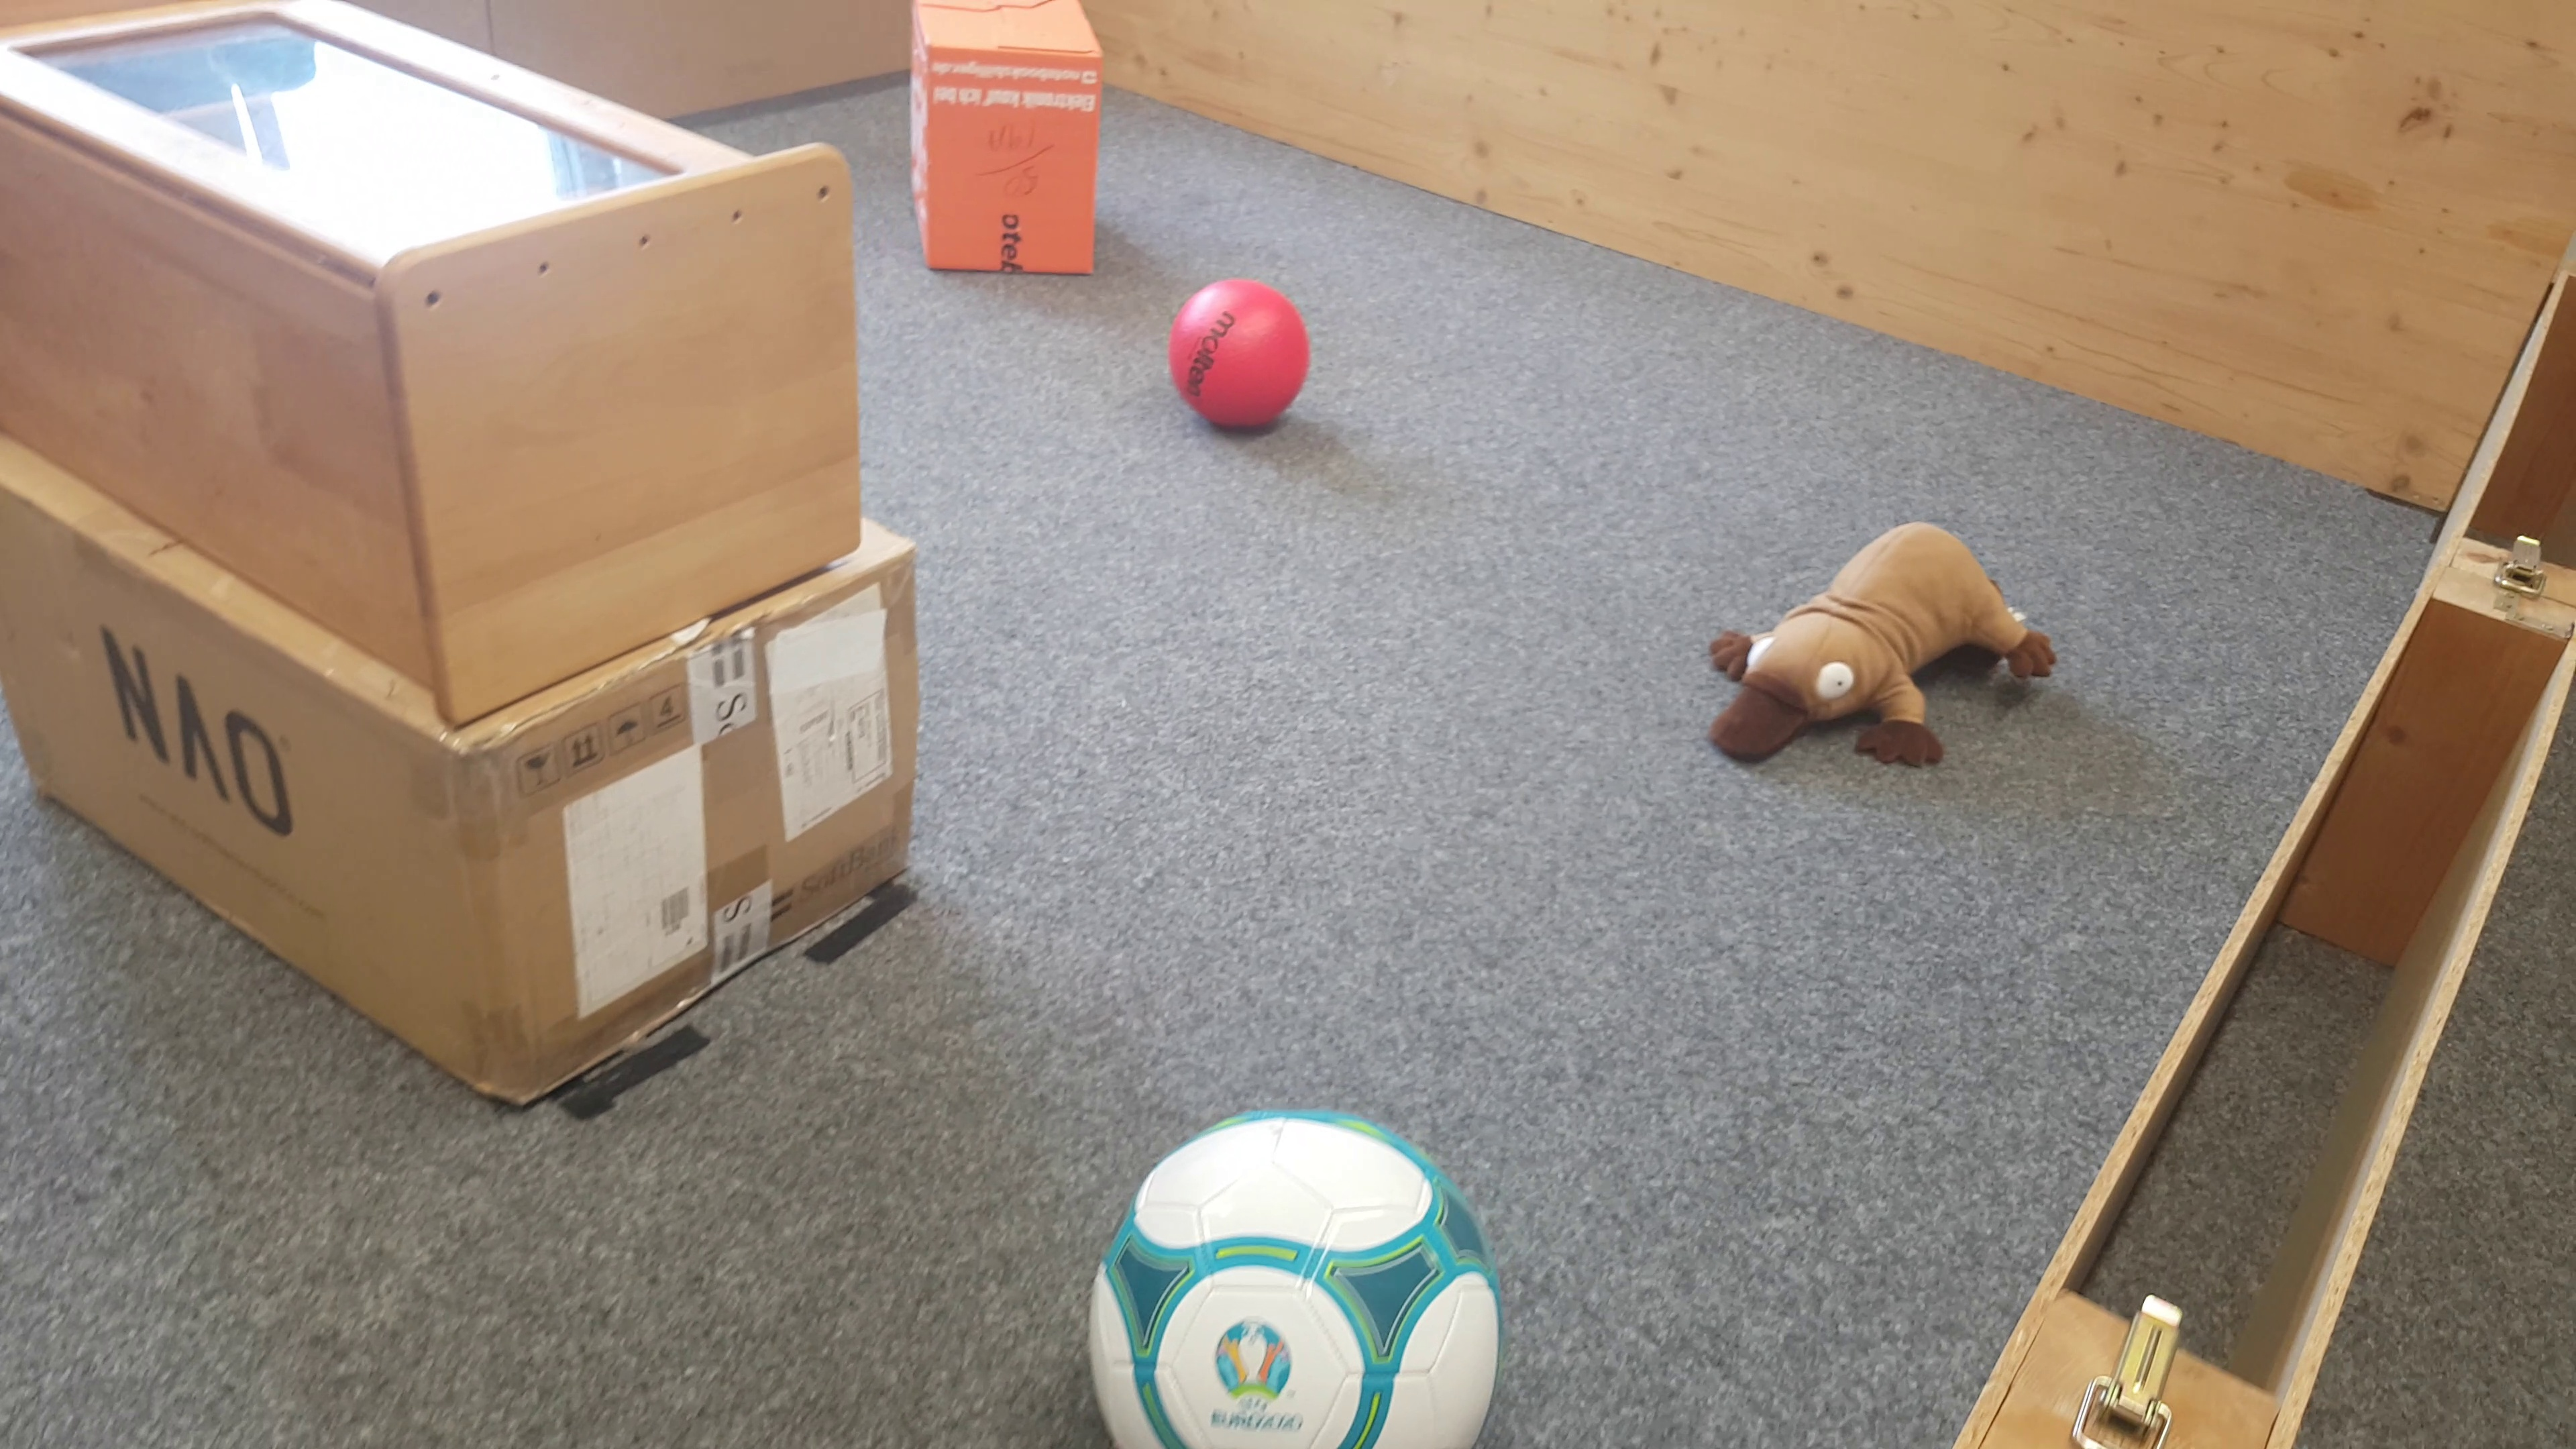grasp: (1688, 515, 2061, 787)
kick: (1088, 1109, 1500, 1449), (1168, 276, 1316, 433)
push: (909, 0, 1106, 285)
